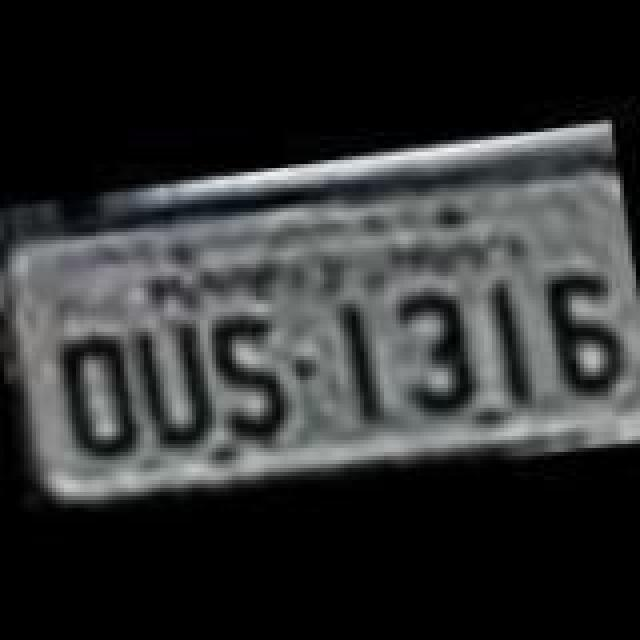1: (480, 268, 544, 408), (330, 298, 390, 430)
3: (388, 284, 492, 428)
6: (542, 260, 634, 400)
O: (56, 330, 148, 466)
S: (204, 306, 292, 446)
U: (130, 316, 226, 452)
